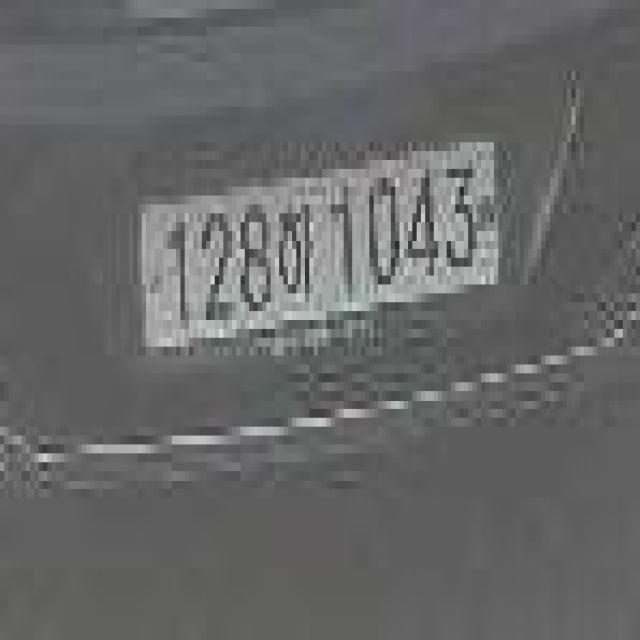illegal_plate: (132, 135, 507, 365)
